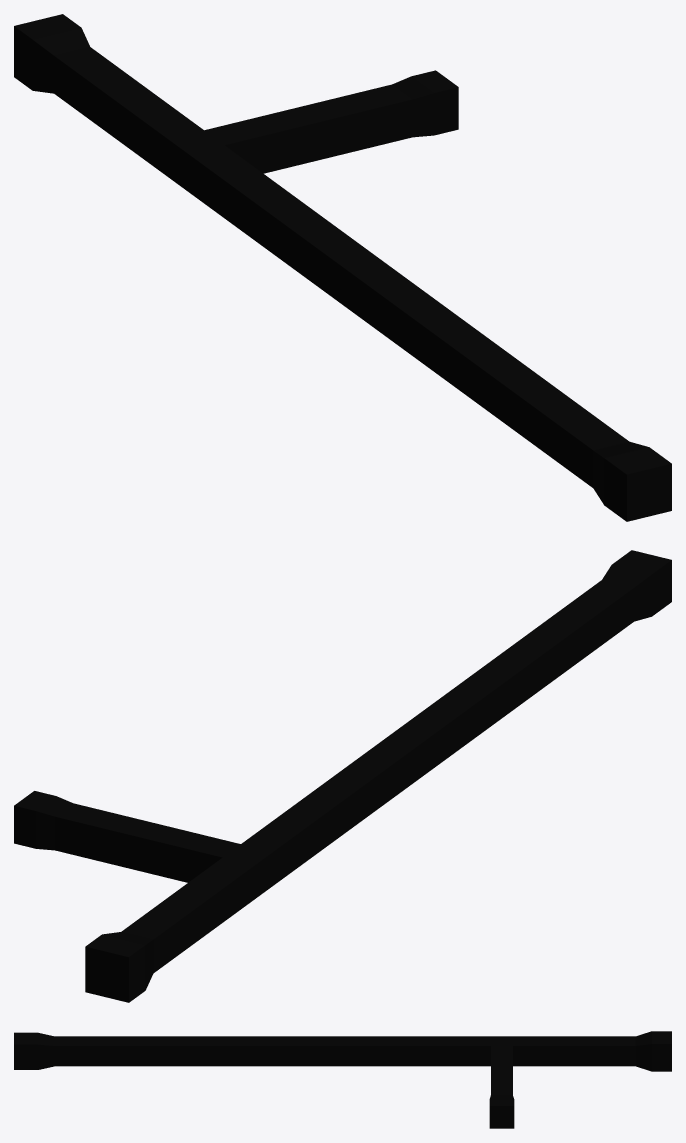
Rendered from ff725cc0-8946-4a48-9c1e-037a2a66aba8.glb.
3 views of the same model, one above another, from view 1: azimuth 30°, elevation 25°; view 2: azimuth 150°, elevation 25°; view 3: azimuth 270°, elevation 25° (orthographic). The views are drawn at different scales.
Parts seen in each view (by area): view 1: Cube.005_Cube.023; view 2: Cube.005_Cube.023; view 3: Cube.005_Cube.023.
Part boxes in pixels (x1,y1,x2,y2): Cube.005_Cube.023: (14, 14, 671, 521); Cube.005_Cube.023: (14, 550, 671, 1002); Cube.005_Cube.023: (14, 1031, 671, 1128).
Bounding box in the file's own units: 0.9 × 0.1598 × 3.46.
Materials: 1 (1 with a texture image).
